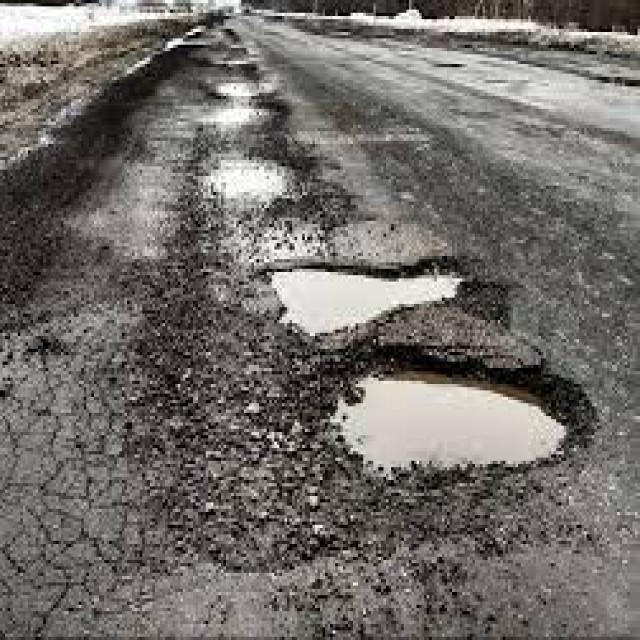pothole: (324, 344, 600, 500), (270, 250, 478, 330), (200, 146, 334, 212), (188, 106, 292, 132)
